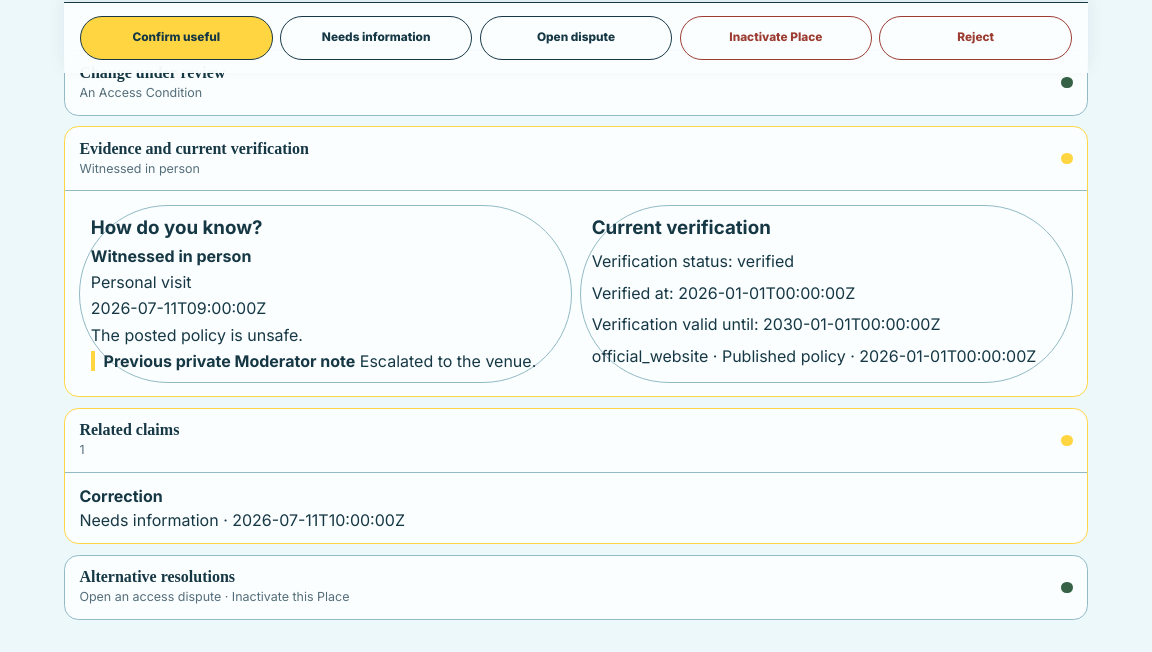
Scenario: CorrectionReviewPanel › reports unsaved Correction edits and guards standalone decisions until cancel
(page scrolled)
What coordinates should you click on to do the following:
click the heading that starts with "Alternative resolutions"
I would click on:
 (157, 577)
Its box is [79,568,1073,604].
(page scrolled)
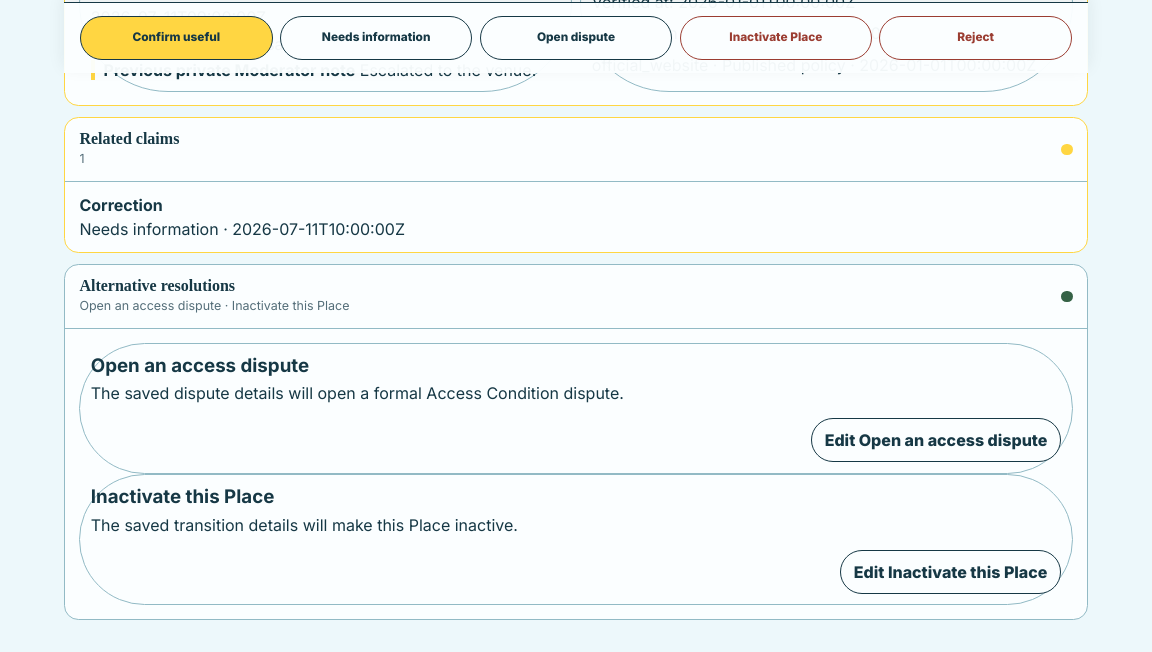
What coordinates should you click on to do the following:
click the button "Edit Open an access dispute"
I would click on:
 (936, 440)
Its box is [811,418,1061,462].
(page scrolled)
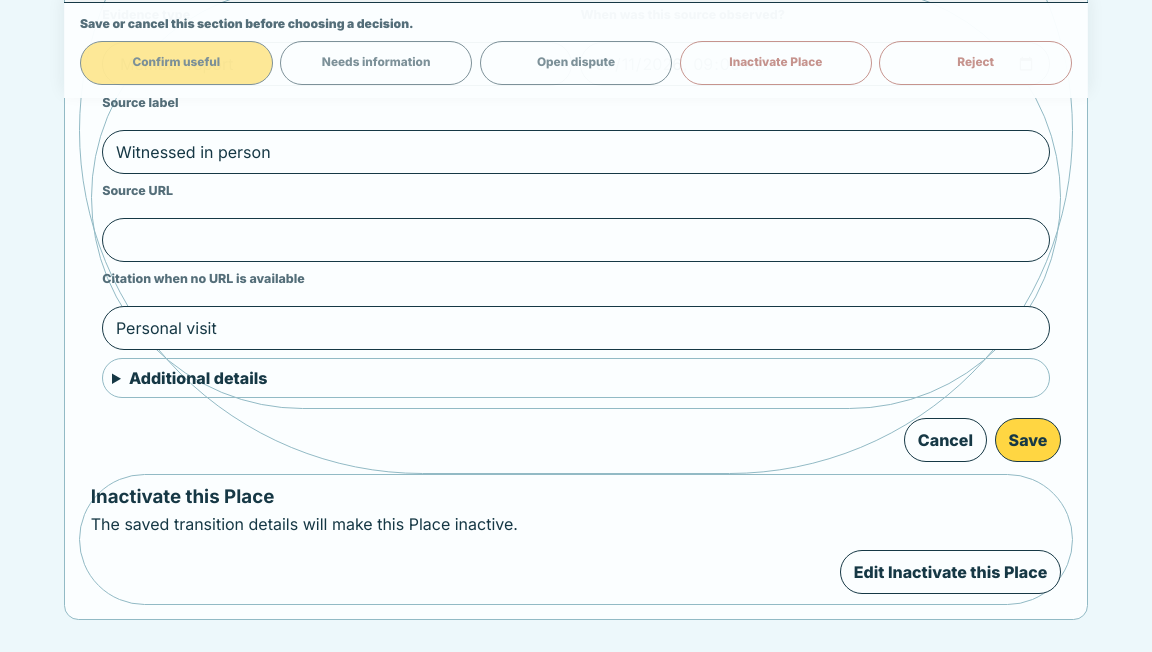
Check: the text "Save or cancel this section before choosing a decision." is shown, box [80,16,414,31]
Check: the button "Confirm useful" is disabled, box [80,41,273,85]
Check: the button "Open dispute" is disabled, box [480,41,672,85]
What coordinates should you click on to do the following:
click the button "Cancel"
I would click on:
 (945, 440)
Its box is [904,418,987,462].
(page scrolled)
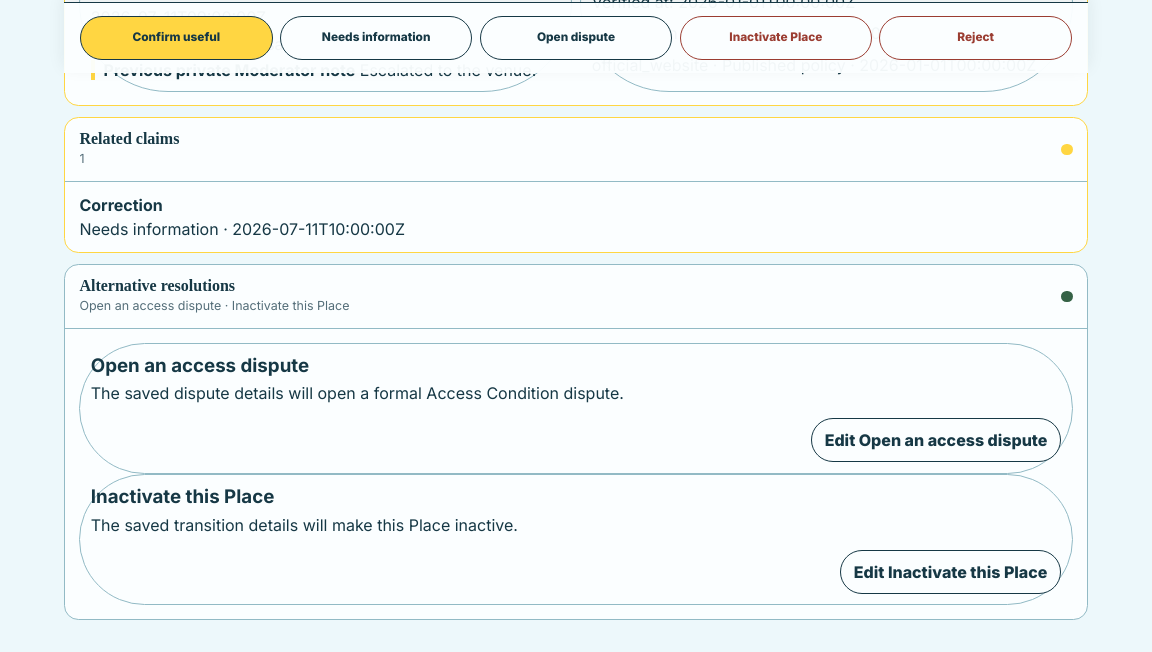
Check: the button "Confirm useful" is enabled, box [80,16,273,60]
